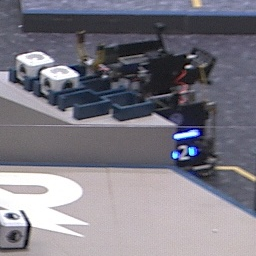Blue: (172, 142, 198, 163)
Robot: (71, 29, 220, 178)
